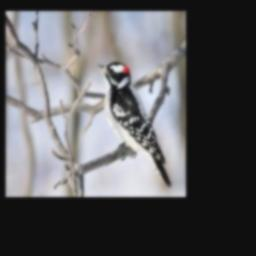Woodpecker: (96, 62, 172, 188)
